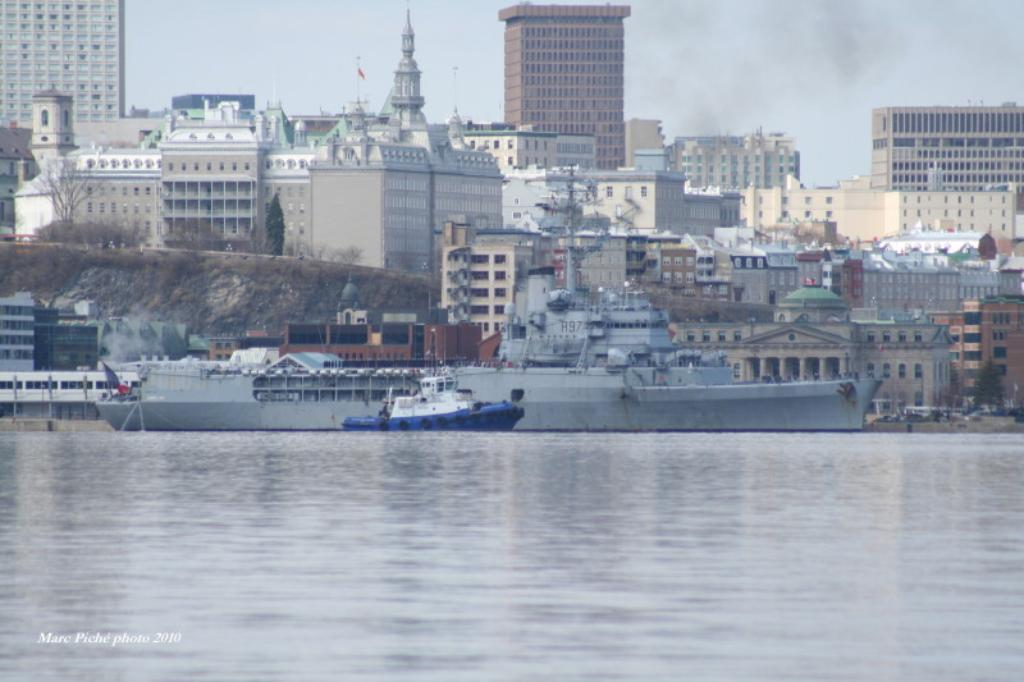Warship: (70, 156, 914, 436)
